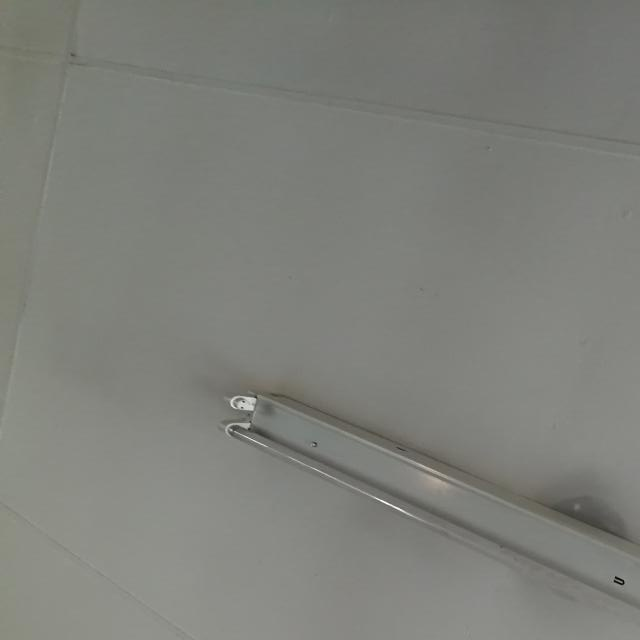fluorescent tube: (198, 377, 640, 640)
